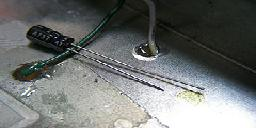Electrolytic-Capacitor: (25, 22, 211, 92)
